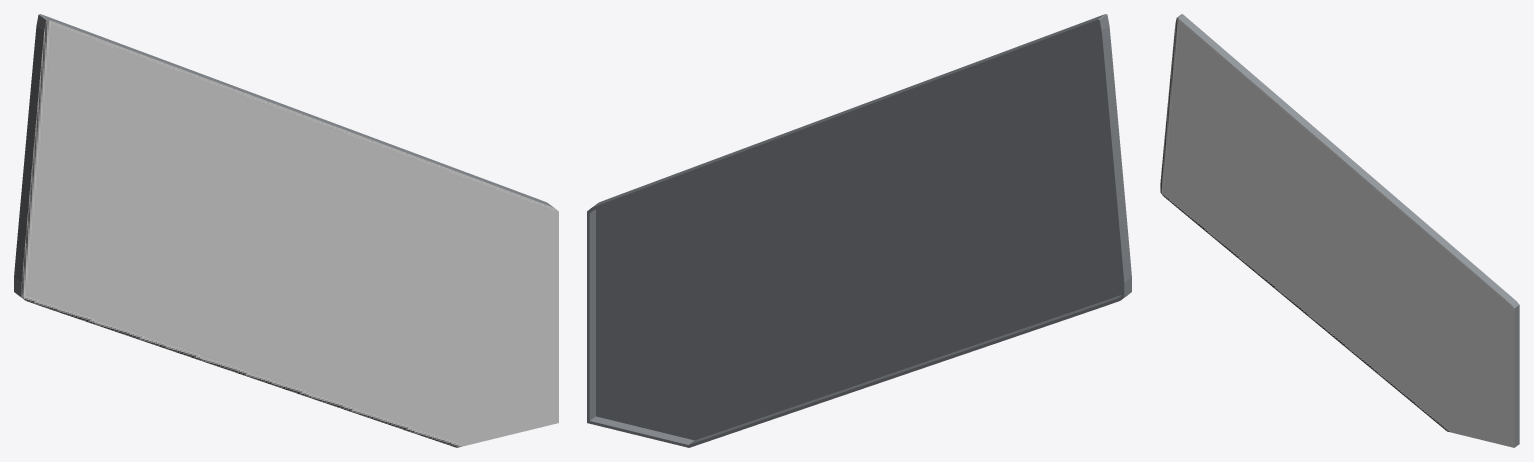
3 renders of one model, left to right at view 1: azimuth 30°, elevation 25°; view 2: azimuth 150°, elevation 25°; view 3: azimuth 330°, elevation 25°, orthographic. The views are drawn at different scales.
Visible parts, largest first — view 1: cat_04ea4951d37a43de; view 2: cat_04ea4951d37a43de; view 3: cat_04ea4951d37a43de.
Boxes of the visible parts, x1,y1,x2,y2 form: cat_04ea4951d37a43de: (14,14,558,447); cat_04ea4951d37a43de: (587,14,1131,447); cat_04ea4951d37a43de: (1160,14,1519,447).
Size of the model in its own units: 0.6 by 0.015 by 0.5635.
2 materials, 1 textured.
